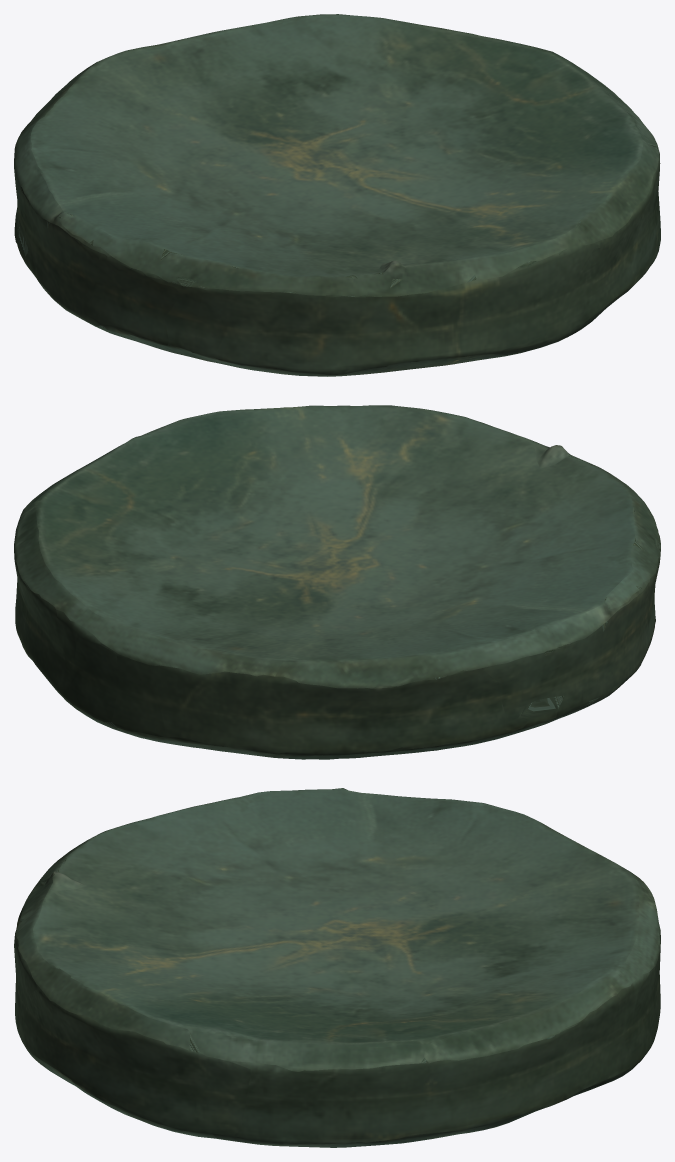
The model's file is mountain-seal-aholo-8391653.glb.
3 views of the same model, one above another, from view 1: azimuth 30°, elevation 25°; view 2: azimuth 150°, elevation 25°; view 3: azimuth 270°, elevation 25° (orthographic).
Visible parts, largest first — view 1: world; view 2: world; view 3: world.
Part boxes in pixels (x1=…): world: x1=14, y1=14, x2=660, y2=376; world: x1=14, y1=405, x2=660, y2=759; world: x1=14, y1=788, x2=660, y2=1147.
Bounding box in the file's own units: 0.1 × 0.0189 × 0.1.
Materials: 1 (1 with a texture image).
